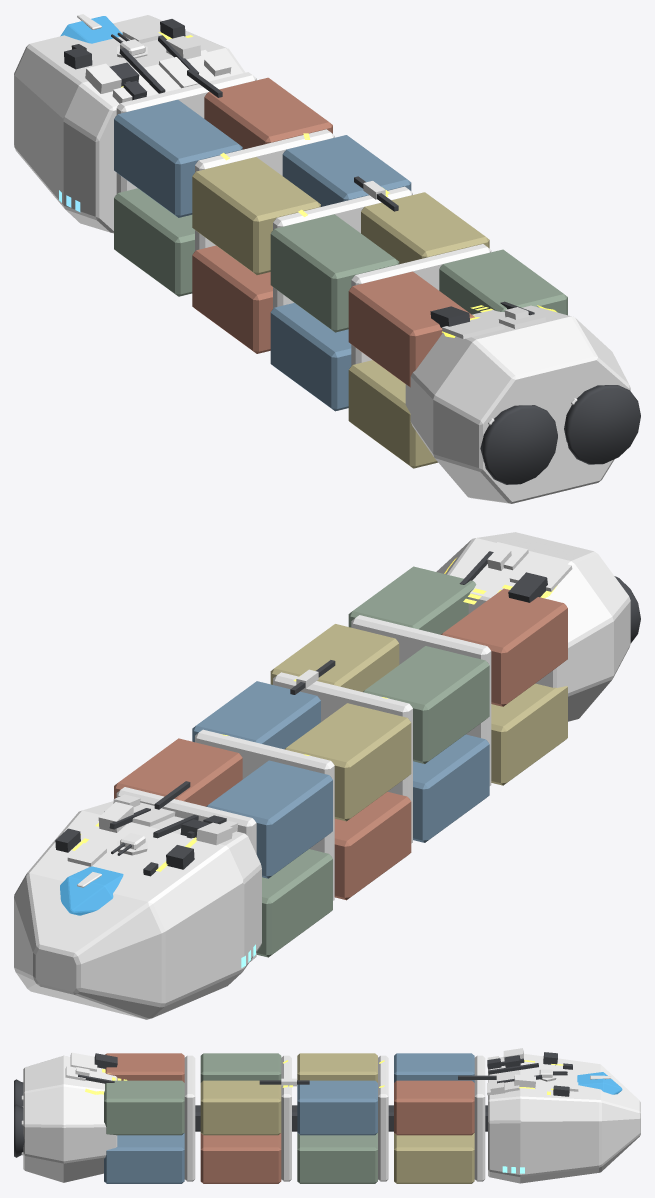
File: tyagach.glb
The picture shows the model from 3 angles, top to bottom: view 1: azimuth 30°, elevation 25°; view 2: azimuth 150°, elevation 25°; view 3: azimuth 270°, elevation 25°; orthographic projection. The views are drawn at different scales.
Parts seen in each view (by area): view 1: Машинный_отсек, Буксир, Контейнер.009, Контейнер.005, Контейнер.001, Контейнер.013, Контейнер.011, Контейнер.003, Контейнер.007, Контейнер, Контейнер.008, Контейнер.012 (+11 smaller); view 2: Буксир, Машинный_отсек, Контейнер.005, Контейнер.009, Контейнер.001, Контейнер.013, Контейнер.007, Контейнер.011, Контейнер.015, Контейнер.003, Контейнер.004, Контейнер (+9 smaller); view 3: Буксир, Машинный_отсек, Контейнер, Контейнер.008, Контейнер.004, Контейнер.012, Контейнер.010, Контейнер.002, Контейнер.006, Контейнер.014, Контейнер.009, Контейнер.005 (+13 smaller).
Part boxes in pixels (x1,y1,x2,y2): Машинный_отсек: [405, 305, 630, 503]; Буксир: [14, 15, 245, 233]; Контейнер.009: [270, 214, 399, 332]; Контейнер.005: [192, 157, 320, 274]; Контейнер.001: [114, 99, 242, 217]; Контейнер.013: [348, 271, 474, 387]; Контейнер.011: [270, 303, 351, 411]; Контейнер.003: [114, 188, 194, 296]; Контейнер.007: [192, 245, 272, 353]; Контейнер: [204, 77, 332, 149]; Контейнер.008: [361, 192, 489, 264]; Контейнер.012: [439, 249, 567, 315]; Буксир: [14, 801, 261, 1019]; Машинный_отсек: [436, 532, 630, 721]; Контейнер.005: [284, 703, 411, 821]; Контейнер.009: [363, 646, 489, 763]; Контейнер.001: [206, 760, 332, 878]; Контейнер.013: [441, 588, 567, 706]; Контейнер.007: [334, 791, 411, 900]; Контейнер.011: [413, 734, 489, 842]; Контейнер.015: [491, 683, 567, 785]; Контейнер.003: [256, 849, 332, 957]; Контейнер.004: [192, 681, 320, 749]; Контейнер: [114, 738, 242, 806]; Буксир: [488, 1053, 640, 1183]; Машинный_отсек: [23, 1055, 117, 1182]; Контейнер: [394, 1080, 474, 1135]; Контейнер.008: [200, 1080, 281, 1135]; Контейнер.004: [297, 1080, 377, 1135]; Контейнер.012: [104, 1080, 184, 1135]; Контейнер.010: [200, 1133, 281, 1183]; Контейнер.002: [394, 1133, 474, 1183]; Контейнер.006: [297, 1133, 377, 1183]; Контейнер.014: [104, 1133, 184, 1183]; Контейнер.009: [200, 1053, 281, 1082]; Контейнер.005: [297, 1053, 377, 1082].
Bounding box in the file's own units: 0.4882 × 0.4146 × 2.34.
